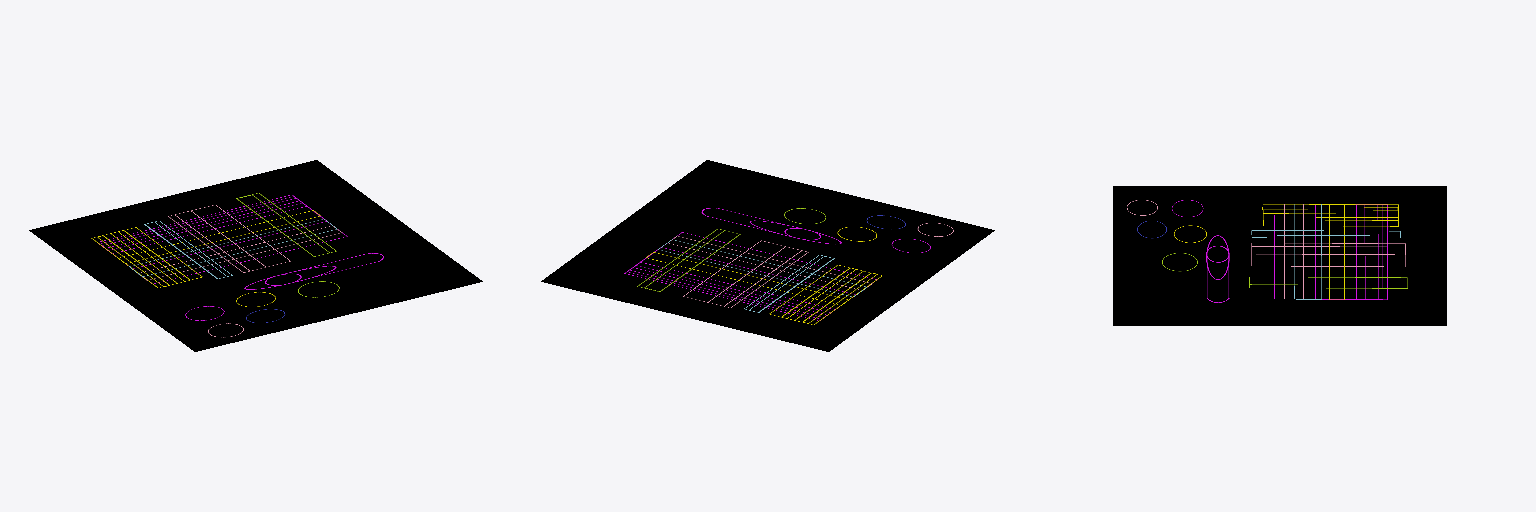
3 views of the same model, side by side, from view 1: azimuth 30°, elevation 25°; view 2: azimuth 150°, elevation 25°; view 3: azimuth 270°, elevation 25° (orthographic).
Visible parts, largest first — view 1: Plane; view 2: Plane; view 3: Plane.
Boxes of the visible parts, x1=… form: Plane: x1=29, y1=160, x2=482, y2=351; Plane: x1=541, y1=160, x2=994, y2=351; Plane: x1=1113, y1=186, x2=1446, y2=325.
Bounding box in the file's own units: 10 × 0 × 10.
1 materials, 1 textured.